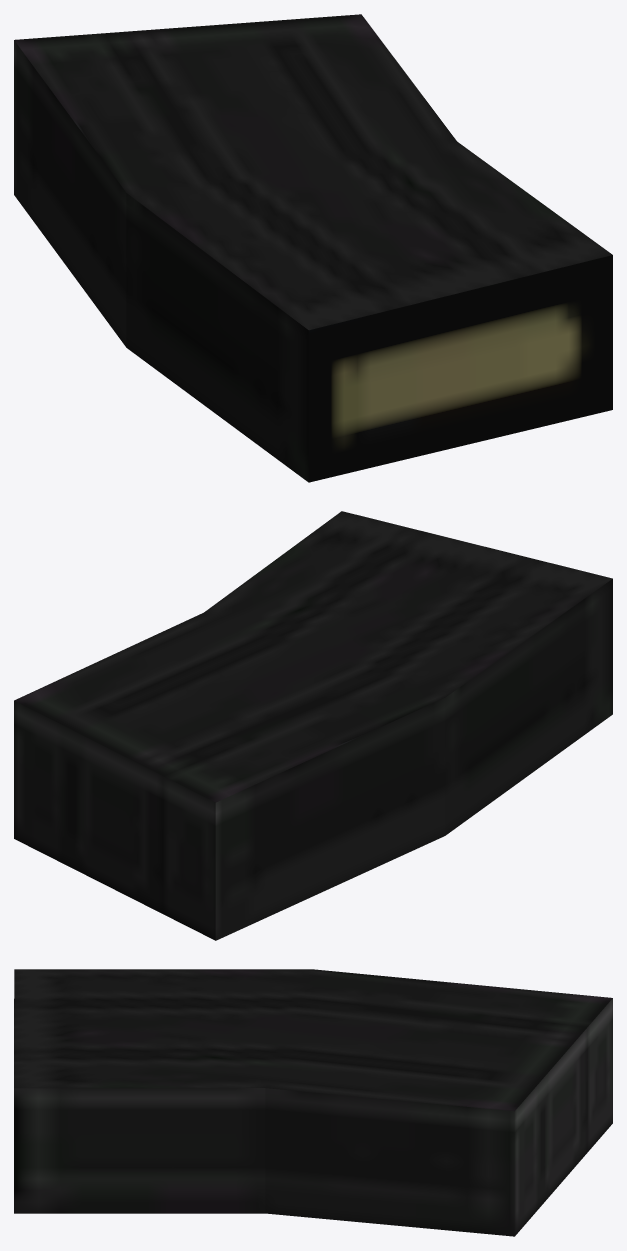
Rendered from Weapon_Armas_SubMachineGun_Pitbull_Weapon_Armas_SubMachineGun_Pitbull_SkeletalMesh3_CRM_SubMachineGun_Clip_Mk2_LOD0.psk.glb.
3 renders of one model, top to bottom at view 1: azimuth 30°, elevation 25°; view 2: azimuth 150°, elevation 25°; view 3: azimuth 270°, elevation 25°, orthographic. The views are drawn at different scales.
Bounding box in the file's own units: 5.98 × 2.44 × 10.58.
1 material, 1 textured.
